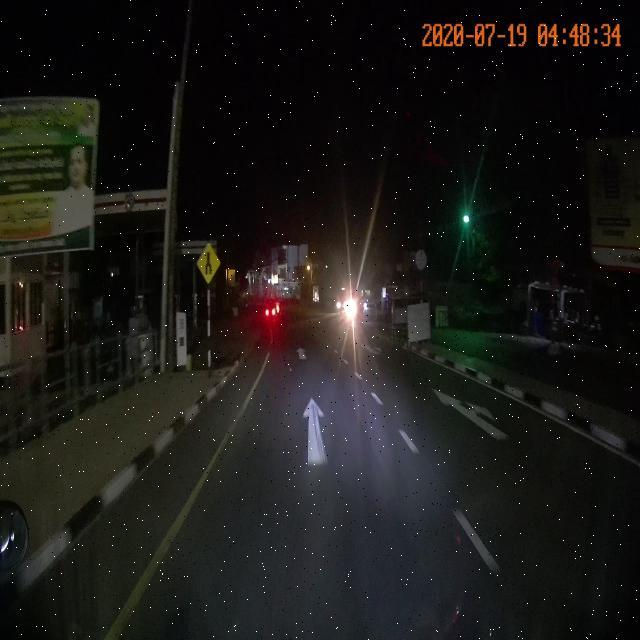forward: (196, 382, 426, 470)
